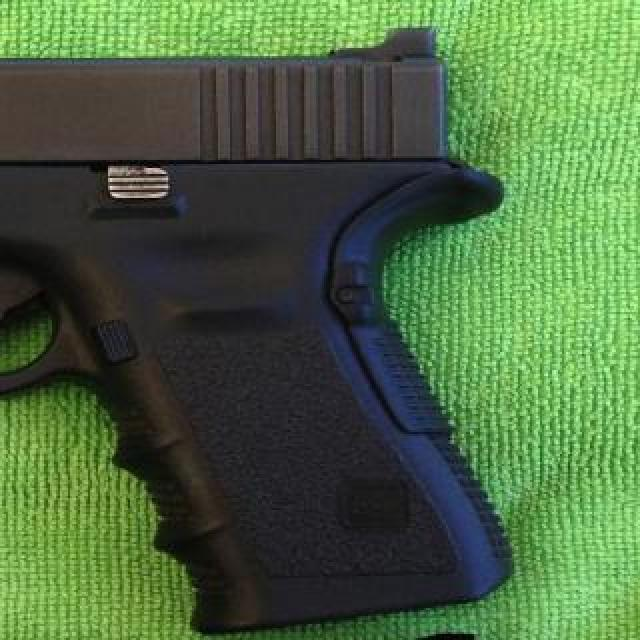Guns: (0, 0, 546, 638), (0, 612, 594, 640)
